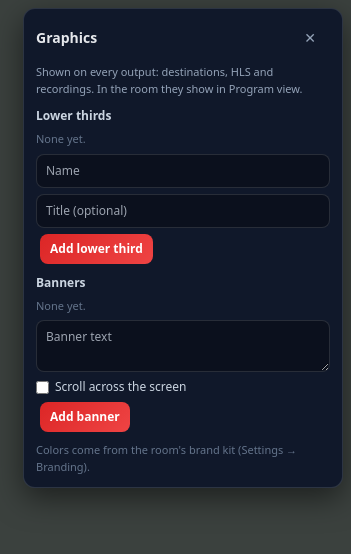
Scenario: GraphicsPanel › adds a scrolling banner
In the text box labelled "Banner text": [183, 346] box [36,320,330,372], type "Follow us"
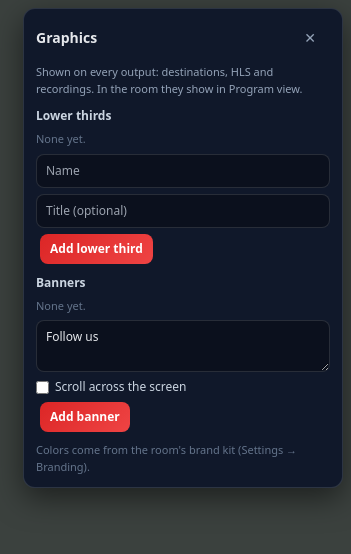
Click the checkbox labelled "Scroll across the screen": [42, 387] box [36,380,49,394]
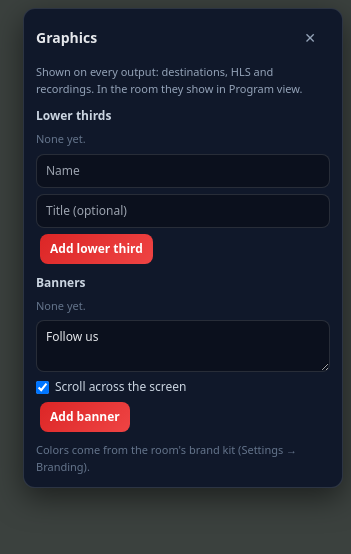
Click the button "Add banner": [85, 417] box [40,402,130,432]
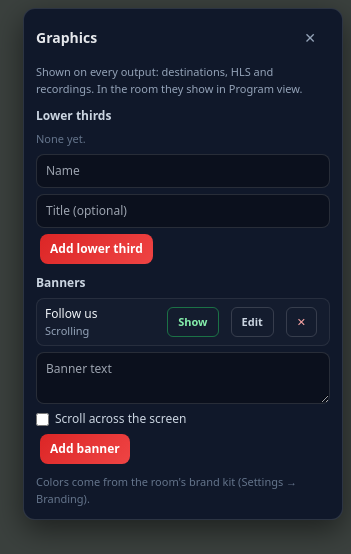
Result: the element with test id "banner-row" shows "Scrolling" at [45,322,89,338]
